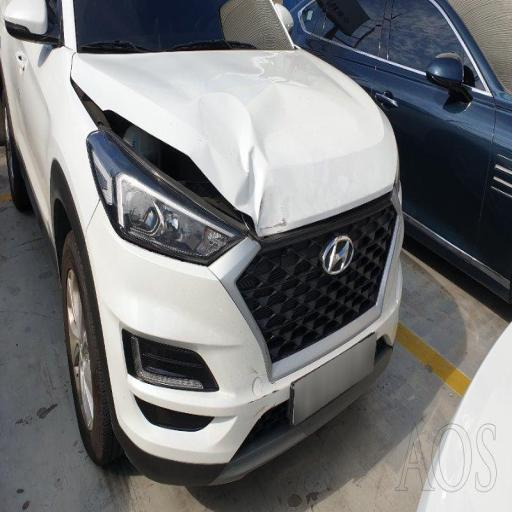scratch: (95, 54, 310, 280)
